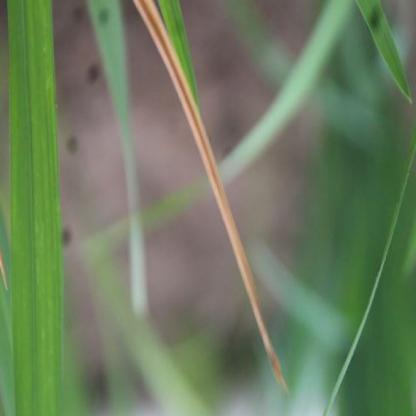Tungro: (134, 1, 289, 390)
